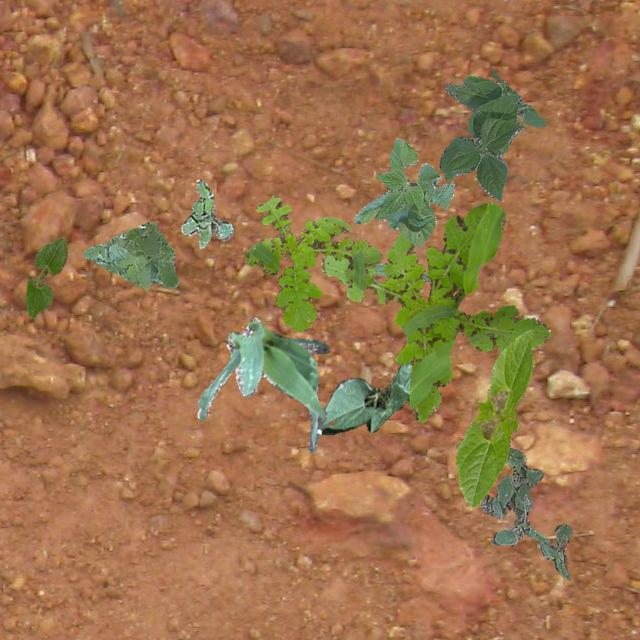crop: (196, 316, 328, 452), (454, 328, 534, 506), (438, 70, 546, 200), (352, 137, 453, 246), (319, 362, 412, 434), (24, 235, 66, 318)
weed: (320, 202, 550, 422), (244, 194, 380, 330), (478, 446, 570, 578), (81, 220, 178, 288), (180, 178, 232, 248), (374, 262, 429, 280)
